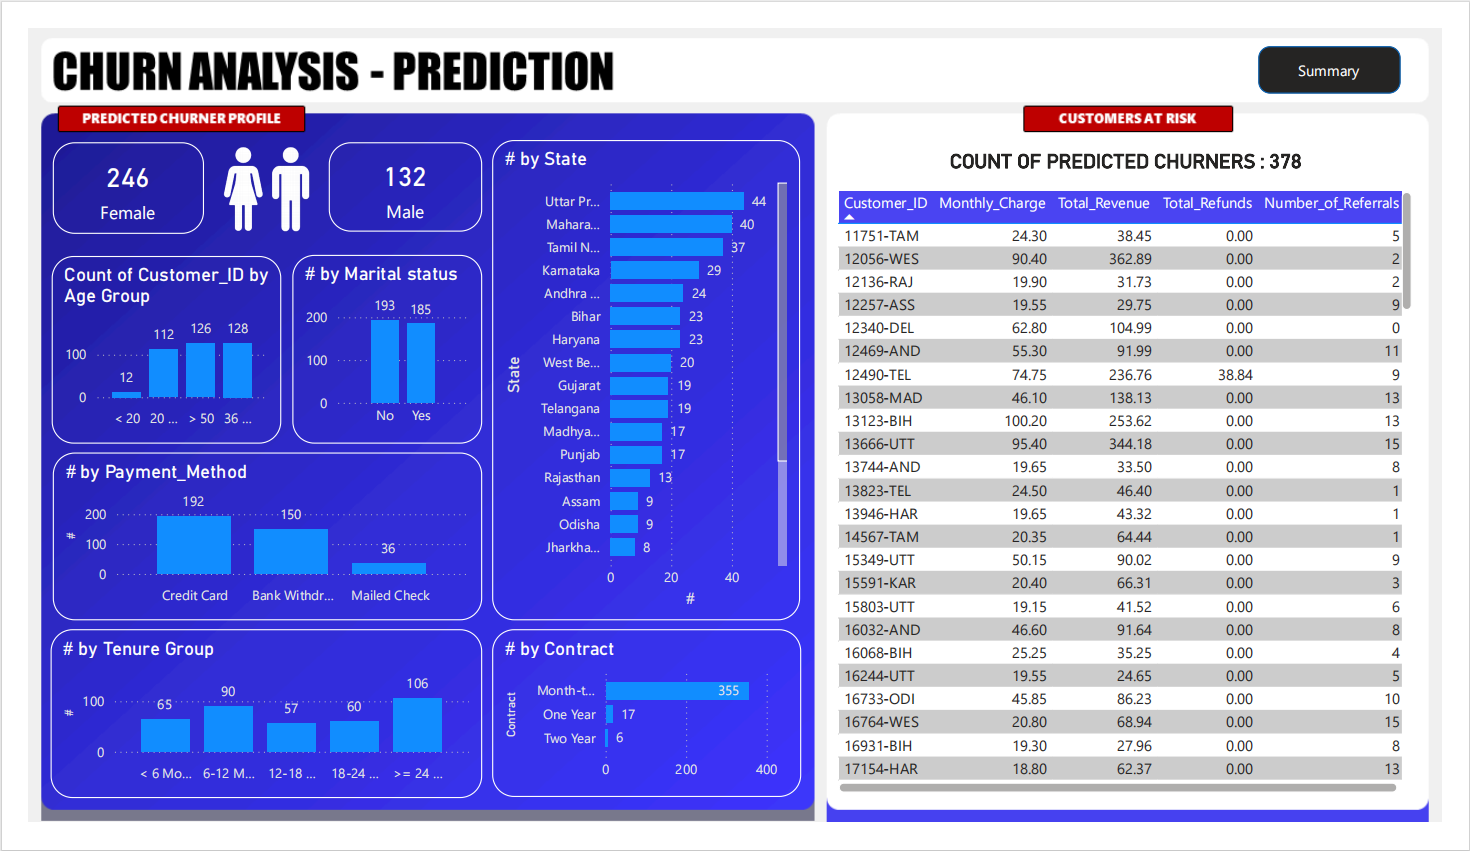

Layout of this report page (visuals, bound fields, positions):
{"tool":"powerbi","page":{"name":"Churn Prediction","canvas":[1280,720],"ordinal":1},"visuals":[{"type":"tableEx","fields":{"Values":["Predictions.Customer_ID","Predictions.Monthly_Charge","Predictions.Total_Revenue","Predictions.Total_Refunds","Predictions.Number_of_Referrals"]},"box":[728.3,143.3,530,553.3],"z":0},{"type":"card","fields":{"Values":["tbl_Measures.Title Predicted Churners"]},"box":[808.6,97.1,370,47.1],"z":1000},{"type":"card","fields":{"Values":["tbl_Measures.Count Predicted Churner"]},"box":[22.2,103.3,136.7,82.2],"z":1001},{"type":"card","fields":{"Values":["tbl_Measures.Count Predicted Churner"]},"box":[272.2,103.3,138.9,81.1],"z":1002},{"type":"clusteredColumnChart","fields":{"Category":["mapping_AgeGrp.Age Group"],"Y":["CountNonNull(Predictions.Customer_ID)"]},"box":[21.2,205.6,207.5,170.6],"z":1003},{"type":"clusteredColumnChart","fields":{"Y":["CountNonNull(Predictions.Customer_ID)"],"Category":["Predictions.Married"]},"box":[238.8,205,171.9,171.2],"z":1004},{"type":"clusteredColumnChart","fields":{"Y":["CountNonNull(Predictions.Customer_ID)"],"Category":["mapping_TenureGrp.Tenure Group"]},"box":[20,544.4,390.6,152.5],"z":1005},{"type":"clusteredBarChart","fields":{"Y":["CountNonNull(Predictions.Customer_ID)"],"Category":["Predictions.Contract"]},"box":[420,543.8,280,152.5],"z":1006},{"type":"clusteredBarChart","fields":{"Y":["CountNonNull(Predictions.Customer_ID)"],"Category":["Predictions.State"]},"box":[420,101.4,278.6,434.3],"z":1007},{"type":"clusteredColumnChart","fields":{"Y":["CountNonNull(Predictions.Customer_ID)"],"Category":["Predictions.Payment_Method"]},"box":[21.9,384.4,388.8,151.9],"z":1008},{"type":"image","box":[158.9,92.2,113.3,105.6],"z":1009},{"type":"shape","box":[1114.3,15.7,128.6,42.9],"z":1010}]}

Visuals, with their boxes in screenshot pixels (x1, y1, x2, y2), scaled from the page's 1280x720 canvas onto the 1470x851 screenshot:
tableEx - Predictions.Customer_ID x Predictions.Monthly_Charge: 836 169 1445 823
card - tbl_Measures.Title Predicted Churners: 929 115 1354 170
card - tbl_Measures.Count Predicted Churner: 25 122 182 219
card - tbl_Measures.Count Predicted Churner: 313 122 472 218
clusteredColumnChart - mapping_AgeGrp.Age Group x CountNonNull(Predictions.Customer_ID): 24 243 263 445
clusteredColumnChart - CountNonNull(Predictions.Customer_ID) x Predictions.Married: 274 242 472 445
clusteredColumnChart - CountNonNull(Predictions.Customer_ID) x mapping_TenureGrp.Tenure Group: 23 643 472 824
clusteredBarChart - CountNonNull(Predictions.Customer_ID) x Predictions.Contract: 482 643 804 823
clusteredBarChart - CountNonNull(Predictions.Customer_ID) x Predictions.State: 482 120 802 633
clusteredColumnChart - CountNonNull(Predictions.Customer_ID) x Predictions.Payment_Method: 25 454 472 634
image: 182 109 313 234
shape: 1280 19 1427 69
